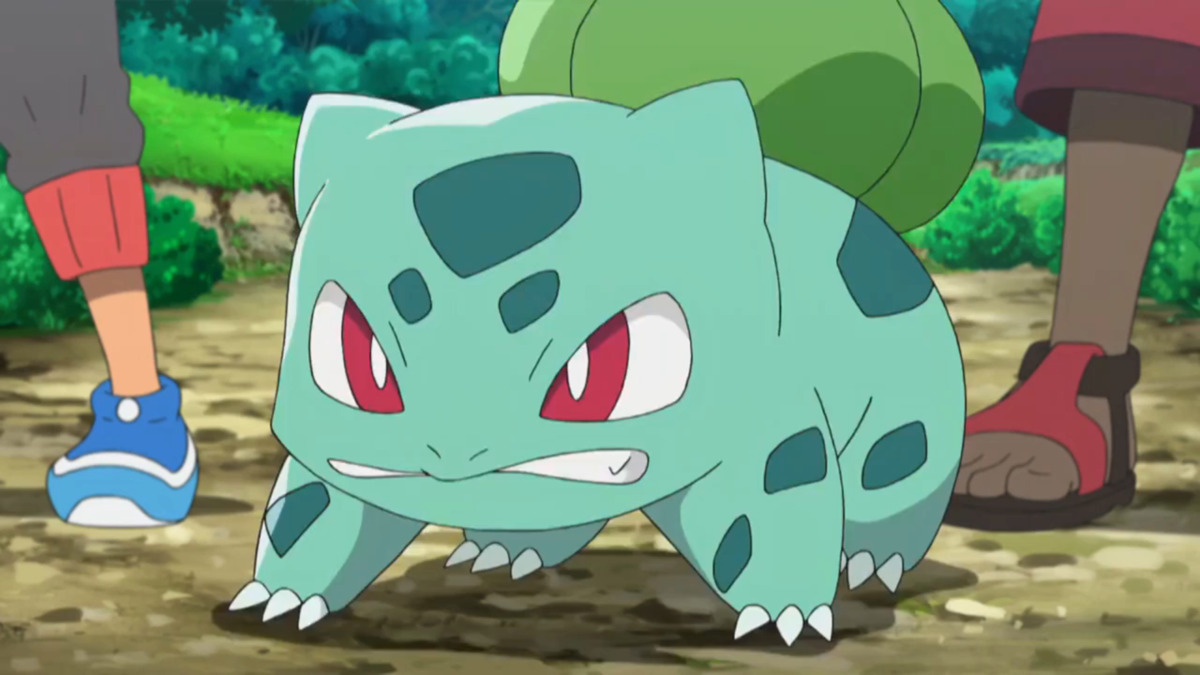001-bulbasaur: (234, 28, 975, 652)
